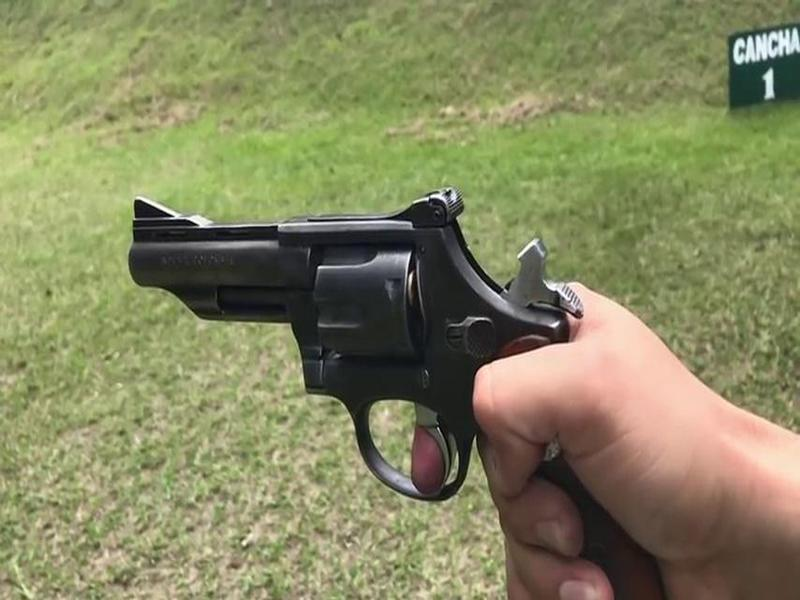Revolver: (118, 164, 586, 579)
